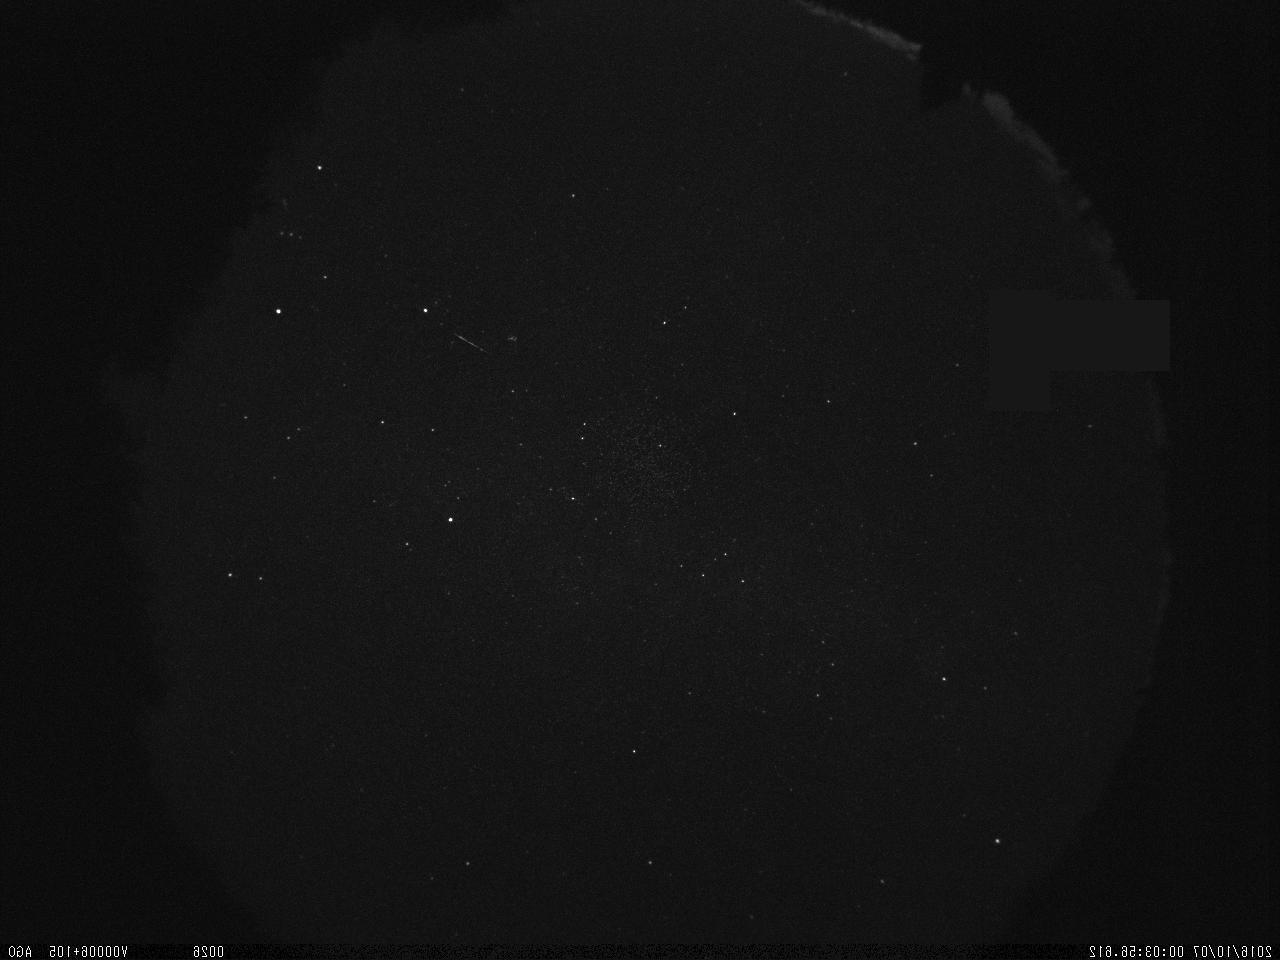meteor: (443, 327, 500, 361)
